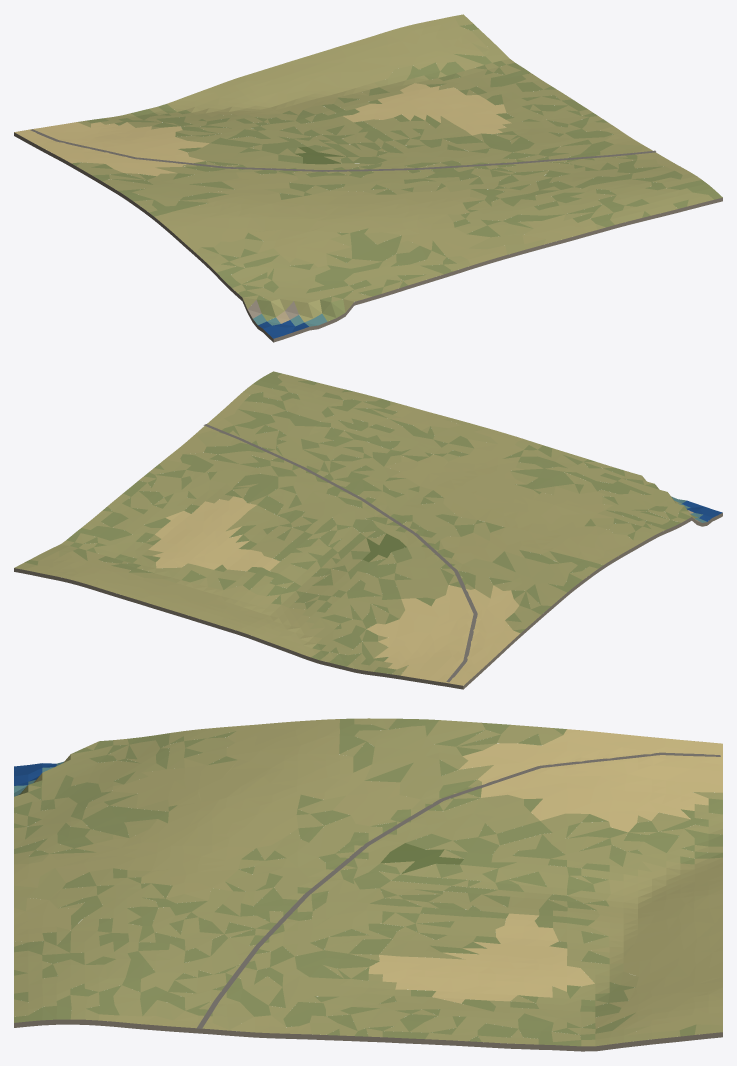
The model's file is parca_-3_-5-uzak.glb.
3 views of the same model, one above another, from view 1: azimuth 30°, elevation 25°; view 2: azimuth 150°, elevation 25°; view 3: azimuth 270°, elevation 25° (orthographic). The views are drawn at different scales.
Visible parts, largest first — view 1: parca_-3_-5_arazi_uzak, parca_-3_-5_yollar_uzak; view 2: parca_-3_-5_arazi_uzak, parca_-3_-5_yollar_uzak; view 3: parca_-3_-5_arazi_uzak, parca_-3_-5_yollar_uzak.
Boxes of the visible parts, <box> form: parca_-3_-5_arazi_uzak: <box>14,14,722,342</box>; parca_-3_-5_yollar_uzak: <box>30,129,655,171</box>; parca_-3_-5_arazi_uzak: <box>14,371,722,689</box>; parca_-3_-5_yollar_uzak: <box>203,424,477,682</box>; parca_-3_-5_arazi_uzak: <box>14,718,722,1051</box>; parca_-3_-5_yollar_uzak: <box>197,752,720,1028</box>.
Bounding box in the file's own units: 1003 × 83.32 × 1000.
